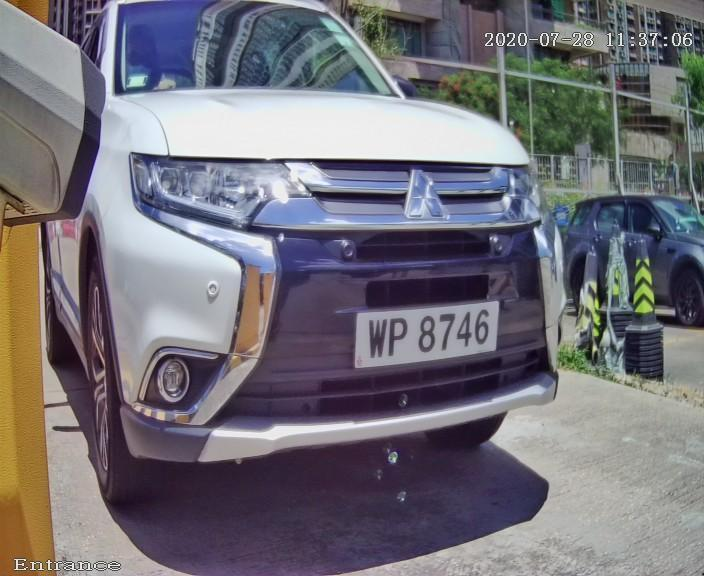privatecar: (41, 3, 632, 574)
